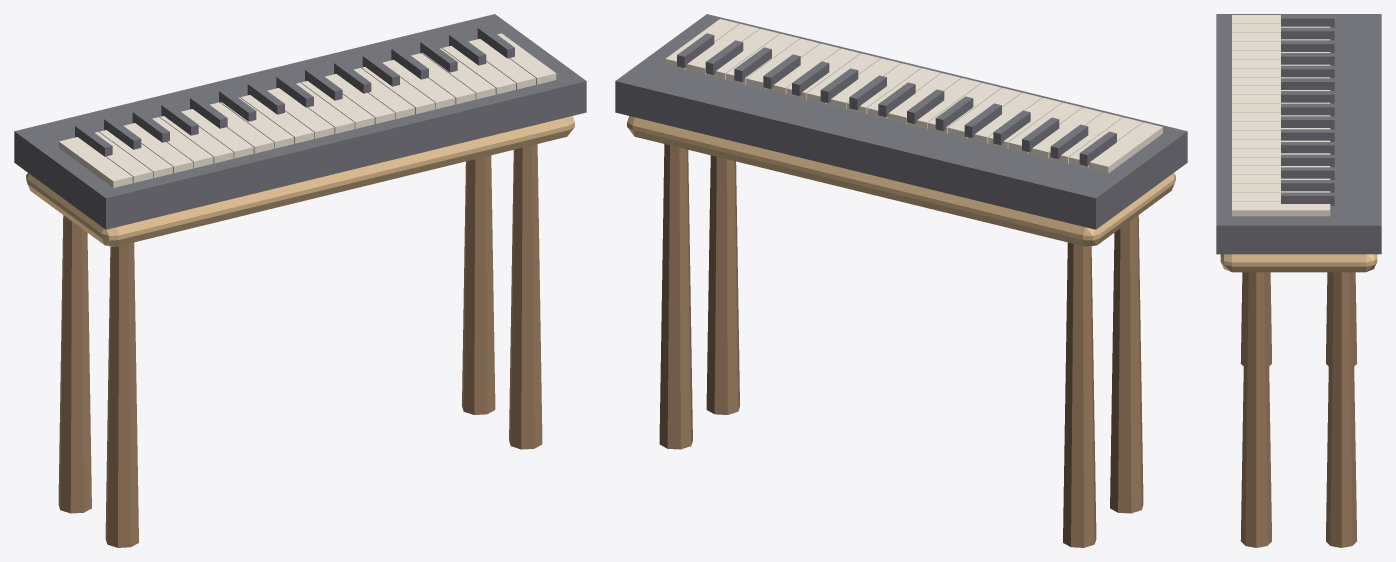
Rendered from cozy-home-interiors-keyboard-piano-c6194853.glb.
3 renders of one model, left to right at view 1: azimuth 30°, elevation 25°; view 2: azimuth 150°, elevation 25°; view 3: azimuth 270°, elevation 25°, orthographic. The views are drawn at different scales.
Visible parts, largest first — view 1: keyboard-piano; view 2: keyboard-piano; view 3: keyboard-piano.
Part boxes in pixels (left/top/right/bottom): keyboard-piano: left=14, top=14, right=586, bottom=547; keyboard-piano: left=615, top=14, right=1187, bottom=547; keyboard-piano: left=1216, top=14, right=1381, bottom=547.
Bounding box in the file's own units: 1.12 × 0.855 × 0.37.
